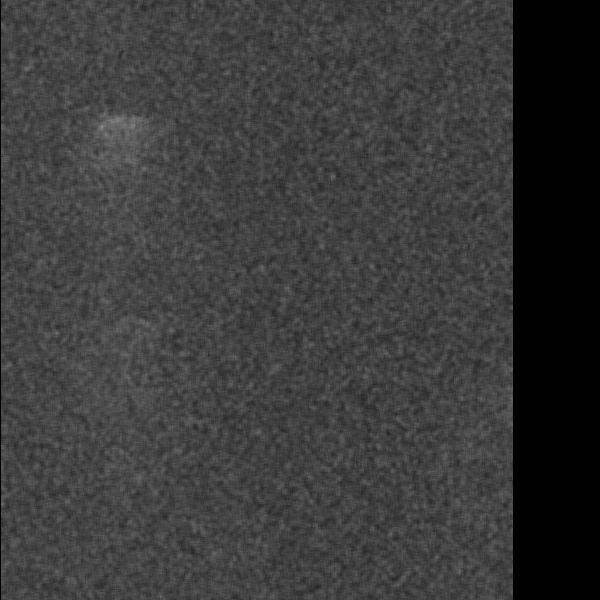spark: (72, 264, 154, 344), (103, 442, 150, 513)
